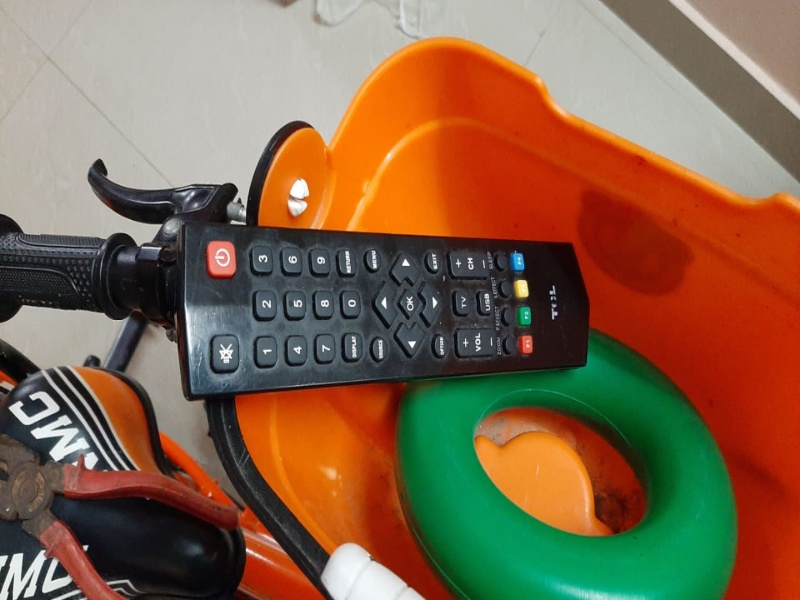remote: (170, 209, 597, 380)
